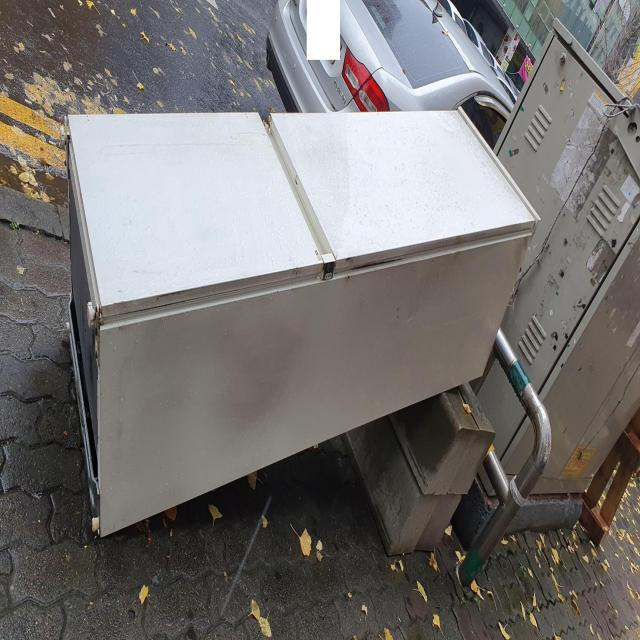refrigerator: (63, 100, 543, 545)
